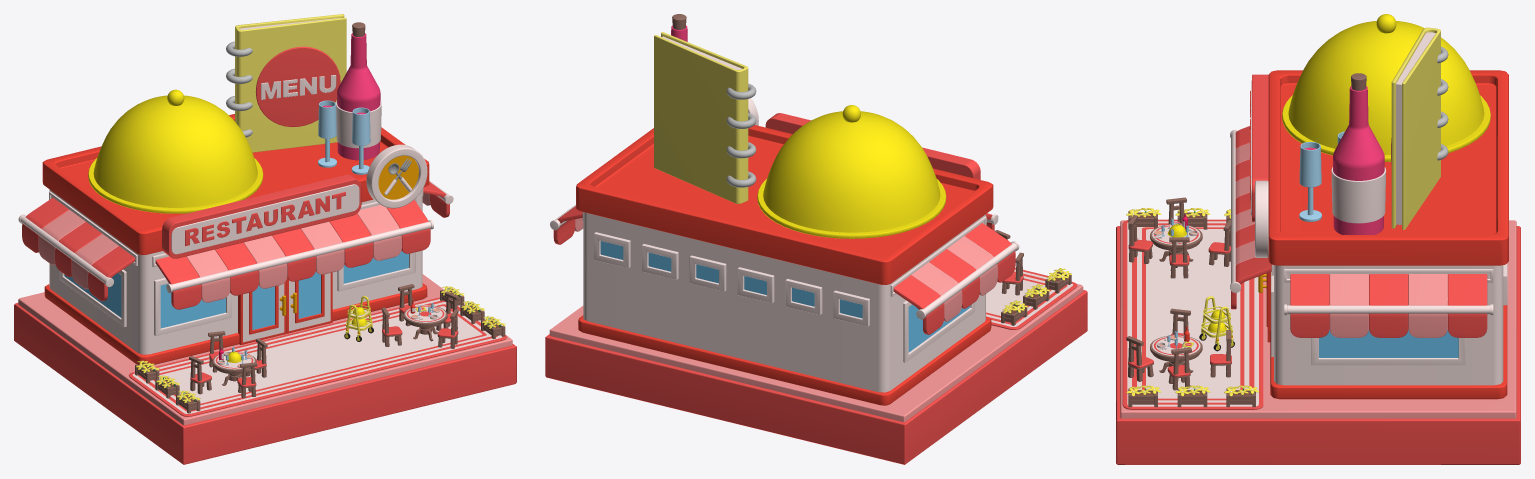
File: Store_Island_20.glb
3 views of the same model, side by side, from view 1: azimuth 30°, elevation 25°; view 2: azimuth 150°, elevation 25°; view 3: azimuth 270°, elevation 25° (orthographic). The views are drawn at different scales.
Visible parts, largest first — view 1: Store_20_Restaurant_1, Store_20_Base_1, Store_20_Big_Serving_tray_1, Store_20_Carpet_1, Store_20_Big_Menu_1, Store_20_Restaurant_Sign_1, Store_20_Big_Bottle_of_Wine_1, Store_20_Restaurant_Sign_2, Store_20_Big_Glass_of_Wine_1, Store_20_Big_Glass_of_Wine_2, Store_20_Food_Cart_1, Store_20_Chair_7 (+1 smaller); view 2: Store_20_Restaurant_1, Store_20_Base_1, Store_20_Big_Serving_tray_1, Store_20_Big_Menu_1, Store_20_Carpet_1, Store_20_Restaurant_Sign_1; view 3: Store_20_Restaurant_1, Store_20_Base_1, Store_20_Carpet_1, Store_20_Big_Serving_tray_1, Store_20_Big_Menu_1, Store_20_Big_Bottle_of_Wine_1, Store_20_Restaurant_Sign_1, Store_20_Big_Glass_of_Wine_2, Store_20_Restaurant_Sign_2, Store_20_Food_Cart_1, Store_20_Chair_4, Store_20_Chair_1 (+12 smaller).
Boxes of the visible parts, bbox=[...] form: Store_20_Restaurant_1: bbox=[18, 114, 453, 364]; Store_20_Base_1: bbox=[14, 274, 516, 464]; Store_20_Big_Serving_tray_1: bbox=[88, 89, 263, 213]; Store_20_Carpet_1: bbox=[128, 297, 506, 416]; Store_20_Big_Menu_1: bbox=[226, 14, 346, 152]; Store_20_Restaurant_Sign_1: bbox=[162, 174, 361, 258]; Store_20_Big_Bottle_of_Wine_1: bbox=[336, 22, 381, 160]; Store_20_Restaurant_Sign_2: bbox=[366, 144, 427, 208]; Store_20_Big_Glass_of_Wine_1: bbox=[318, 100, 336, 167]; Store_20_Big_Glass_of_Wine_2: bbox=[351, 107, 370, 174]; Store_20_Food_Cart_1: bbox=[344, 296, 373, 341]; Store_20_Chair_7: bbox=[189, 356, 211, 394]; Store_20_Restaurant_1: bbox=[550, 125, 1019, 405]; Store_20_Base_1: bbox=[545, 283, 1087, 464]; Store_20_Big_Serving_tray_1: bbox=[757, 105, 946, 238]; Store_20_Big_Menu_1: bbox=[654, 32, 756, 203]; Store_20_Carpet_1: bbox=[986, 268, 1077, 329]; Store_20_Restaurant_Sign_1: bbox=[765, 113, 980, 179]; Store_20_Restaurant_1: bbox=[1230, 70, 1508, 399]; Store_20_Base_1: bbox=[1116, 220, 1520, 464]; Store_20_Carpet_1: bbox=[1122, 219, 1263, 409]; Store_20_Big_Serving_tray_1: bbox=[1282, 14, 1490, 161]; Store_20_Big_Menu_1: bbox=[1391, 27, 1448, 229]; Store_20_Big_Bottle_of_Wine_1: bbox=[1331, 73, 1386, 234]; Store_20_Restaurant_Sign_1: bbox=[1250, 74, 1268, 221]; Store_20_Big_Glass_of_Wine_2: bbox=[1299, 141, 1321, 221]; Store_20_Restaurant_Sign_2: bbox=[1255, 180, 1268, 257]; Store_20_Food_Cart_1: bbox=[1199, 296, 1234, 351]; Store_20_Chair_4: bbox=[1126, 336, 1153, 381]; Store_20_Chair_1: bbox=[1167, 347, 1191, 390].
Size of the model in its own units: 13.32 by 10.94 by 11.27.
Materials: 60 (60 with a texture image).
